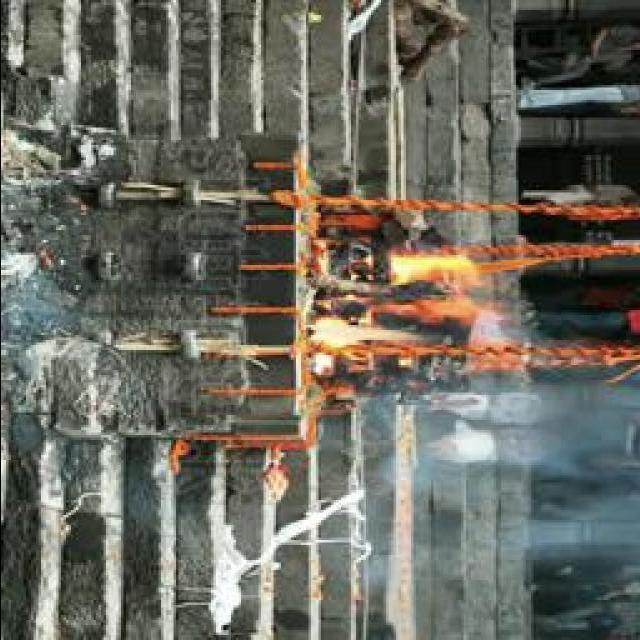Fire: (307, 243, 512, 346)
